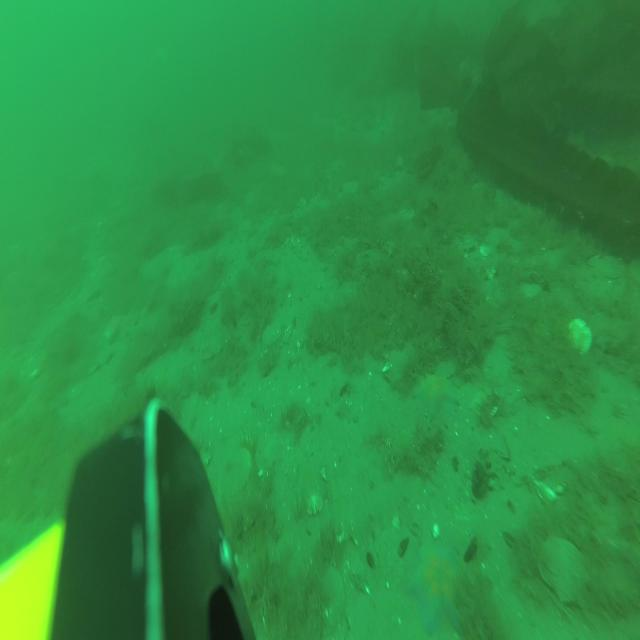scallop: (538, 534, 587, 604), (568, 314, 593, 352)
starfish: (408, 542, 464, 627), (414, 367, 461, 424)
